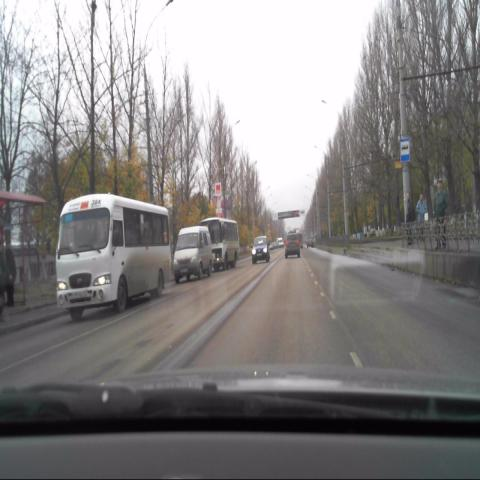5_16: (400, 139, 410, 163)
